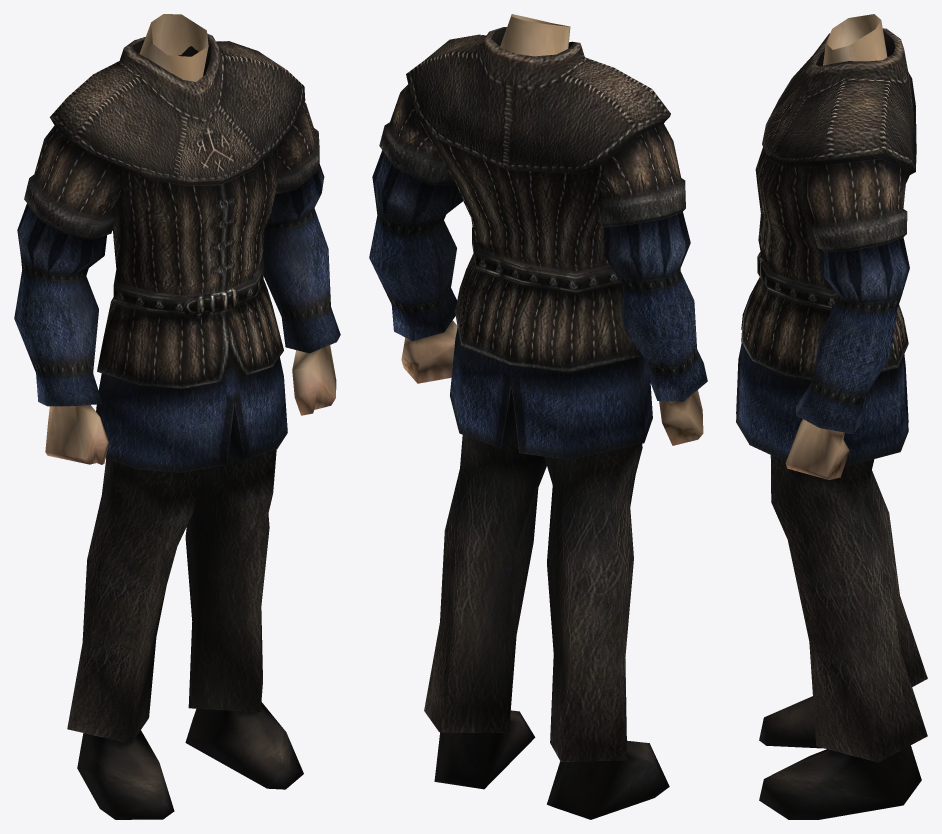
File: KM_ARX_M.glb
3 views of the same model, side by side, from view 1: azimuth 30°, elevation 25°; view 2: azimuth 150°, elevation 25°; view 3: azimuth 270°, elevation 25° (orthographic). The views are drawn at different scales.
Parts seen in each view (by area): view 1: KM_ARX_M; view 2: KM_ARX_M; view 3: KM_ARX_M.
Part boxes in pixels (x1=…): KM_ARX_M: x1=14, y1=14, x2=340, y2=819; KM_ARX_M: x1=369, y1=14, x2=707, y2=819; KM_ARX_M: x1=736, y1=14, x2=927, y2=819.
Size of the model in its own units: 0.7135 by 1.69 by 0.3902.
2 materials, 2 textured.
